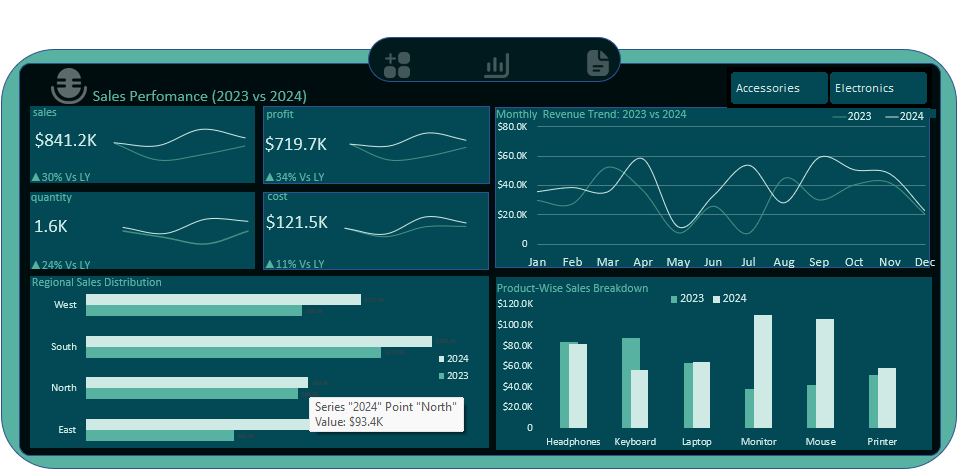

This screenshot's page, from the dashboard's own definition file:
{"tool":"powerbi","page":{"name":"Page 1","canvas":[1280,720],"ordinal":0},"visuals":[{"type":"cardVisual","title":"Profit","fields":{"Data":["Sheet1.Sum of Sales minus Sum of Cost"]},"box":[0,247.7,331.2,135.4],"z":0},{"type":"cardVisual","title":"Quantity","fields":{"Data":["Sum(Sheet1.Quantity)"]},"box":[341.3,247.7,319.7,135.4],"z":1000},{"type":"lineChart","title":"Monthly  Revenue Trend: 2023 vs 2024","fields":{"Category":["Sheet1.Date.Variation.Date Hierarchy.Year","Sheet1.Date.Variation.Date Hierarchy.Month"],"Series":["Sheet1.Date.Variation.Date Hierarchy.Year"],"Y":["Sheet1.profit"]},"box":[668.2,110.9,612,272.2],"z":2000},{"type":"clusteredColumnChart","title":"Product-Wise Sales Breakdown","fields":{"Category":["Sheet1.Date.Variation.Date Hierarchy.Year","Sheet1.Product"],"Y":["Sum(Sheet1.Sales)"],"Series":["Sheet1.Date.Variation.Date Hierarchy.Year"]},"box":[668.3,393.3,611.7,326.7],"z":3000},{"type":"clusteredBarChart","title":"Regional Sales Distribution","fields":{"Category":["Sheet1.Region","Sheet1.Date.Variation.Date Hierarchy.Year"],"Y":["Sum(Sheet1.Sales)"],"Series":["Sheet1.Date.Variation.Date Hierarchy.Year"]},"box":[0,393.1,661,326.9],"z":4000},{"type":"cardVisual","title":"Sales","fields":{"Data":["Sum(Sheet1.Sales)"]},"box":[0,110.9,329.8,128.2],"z":5000},{"type":"lineChart","fields":{"Category":["Sheet1.Date.Variation.Date Hierarchy.Quarter"],"Y":["Sum(Sheet1.Sales)"],"Series":["Sheet1.Date.Variation.Date Hierarchy.Year"]},"box":[132.5,110.9,197.3,128.2],"z":6000},{"type":"lineChart","fields":{"Y":["Sheet1.profit"],"Series":["Sheet1.Date.Variation.Date Hierarchy.Year"],"Category":["Sheet1.Date.Variation.Date Hierarchy.Quarter"]},"box":[122.4,247.7,207.4,135.4],"z":7000},{"type":"cardVisual","title":"Cost","fields":{"Data":["Sum(Sheet1.Cost)"]},"box":[341.3,110.9,319.7,128.2],"z":8000},{"type":"advancedSlicerVisual","fields":{"Values":["Sheet1.Date.Variation.Date Hierarchy.Year"]},"box":[65,0,416.7,66.7],"z":9000},{"type":"lineChart","fields":{"Category":["Sheet1.Date.Variation.Date Hierarchy.Year","Sheet1.Date.Variation.Date Hierarchy.Quarter"],"Y":["Sum(Sheet1.Cost)"],"Series":["Sheet1.Date.Variation.Date Hierarchy.Year"]},"box":[465.1,110.9,194.4,128.2],"z":10000},{"type":"lineChart","fields":{"Category":["Sheet1.Date.Variation.Date Hierarchy.Year","Sheet1.Date.Variation.Date Hierarchy.Quarter"],"Y":["Sum(Sheet1.Quantity)"],"Series":["Sheet1.Date.Variation.Date Hierarchy.Year"]},"box":[476.6,247.7,182.9,123.8],"z":11000},{"type":"shape","box":[516.7,26.7,246.7,71.7],"z":12000},{"type":"image","box":[0,38.3,65,65],"z":13000},{"type":"image","box":[533.3,38.3,48.3,55],"z":14000},{"type":"image","box":[695,43.3,68.3,45],"z":15000},{"type":"image","box":[621.7,38.3,46.7,51.7],"z":16000},{"type":"textbox","box":[64.8,72,411.8,37.4],"z":17000},{"type":"advancedSlicerVisual","fields":{"Values":["Sheet1.Category"]},"box":[980,63.3,300,48.3],"z":18000},{"type":"advancedSlicerVisual","fields":{"Values":["Sheet1.Region"]},"box":[781.7,0,498.3,63.3],"z":19000},{"type":"image","box":[47.5,247.7,50.4,30],"z":20000},{"type":"image","box":[398.9,247.7,70,30],"z":21000},{"type":"image","box":[47.5,110.9,40.3,30],"z":22000},{"type":"image","box":[378.7,109.4,53.3,30],"z":23000}]}

Visuals, with their boxes on the page's 1280x720 design canvas (x1, y1, x2, y2). These are canvas units, not pixel positions in the 958x470 screenshot, which may show the page scaled, cropped or inside an application window:
"Profit" cardVisual: locate(0, 248, 331, 383)
"Quantity" cardVisual: locate(341, 248, 661, 383)
"Monthly  Revenue Trend: 2023 vs 2024" lineChart: locate(668, 111, 1280, 383)
"Product-Wise Sales Breakdown" clusteredColumnChart: locate(668, 393, 1280, 720)
"Regional Sales Distribution" clusteredBarChart: locate(0, 393, 661, 720)
"Sales" cardVisual: locate(0, 111, 330, 239)
lineChart - Sheet1.Date.Variation.Date Hierarchy.Quarter x Sum(Sheet1.Sales): locate(132, 111, 330, 239)
lineChart - Sheet1.profit x Sheet1.Date.Variation.Date Hierarchy.Year: locate(122, 248, 330, 383)
"Cost" cardVisual: locate(341, 111, 661, 239)
advancedSlicerVisual - Sheet1.Date.Variation.Date Hierarchy.Year: locate(65, 0, 482, 67)
lineChart - Sheet1.Date.Variation.Date Hierarchy.Year x Sheet1.Date.Variation.Date Hierarchy.Quarter: locate(465, 111, 660, 239)
lineChart - Sheet1.Date.Variation.Date Hierarchy.Year x Sheet1.Date.Variation.Date Hierarchy.Quarter: locate(477, 248, 660, 372)
shape: locate(517, 27, 763, 98)
image: locate(0, 38, 65, 103)
image: locate(533, 38, 582, 93)
image: locate(695, 43, 763, 88)
image: locate(622, 38, 668, 90)
textbox: locate(65, 72, 477, 109)
advancedSlicerVisual - Sheet1.Category: locate(980, 63, 1280, 112)
advancedSlicerVisual - Sheet1.Region: locate(782, 0, 1280, 63)
image: locate(48, 248, 98, 278)
image: locate(399, 248, 469, 278)
image: locate(48, 111, 88, 141)
image: locate(379, 109, 432, 139)
